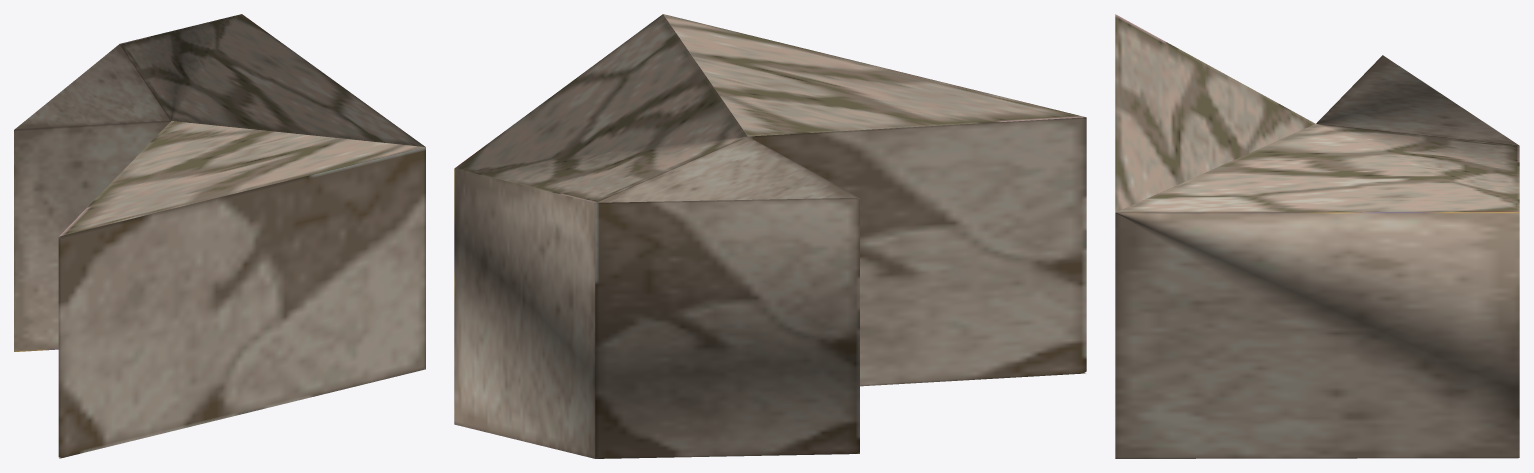
3 renders of one model, left to right at view 1: azimuth 30°, elevation 25°; view 2: azimuth 150°, elevation 25°; view 3: azimuth 270°, elevation 25°, orthographic. The views are drawn at different scales.
Parts seen in each view (by area): view 1: T1L8M004_19; view 2: T1L8M004_19; view 3: T1L8M004_19.
Part boxes in pixels (x1,y1,x2,y2): T1L8M004_19: [14, 14, 425, 458]; T1L8M004_19: [454, 14, 1086, 458]; T1L8M004_19: [1115, 14, 1519, 458].
Size of the model in its own units: 1.39 by 0.8057 by 1.2.
